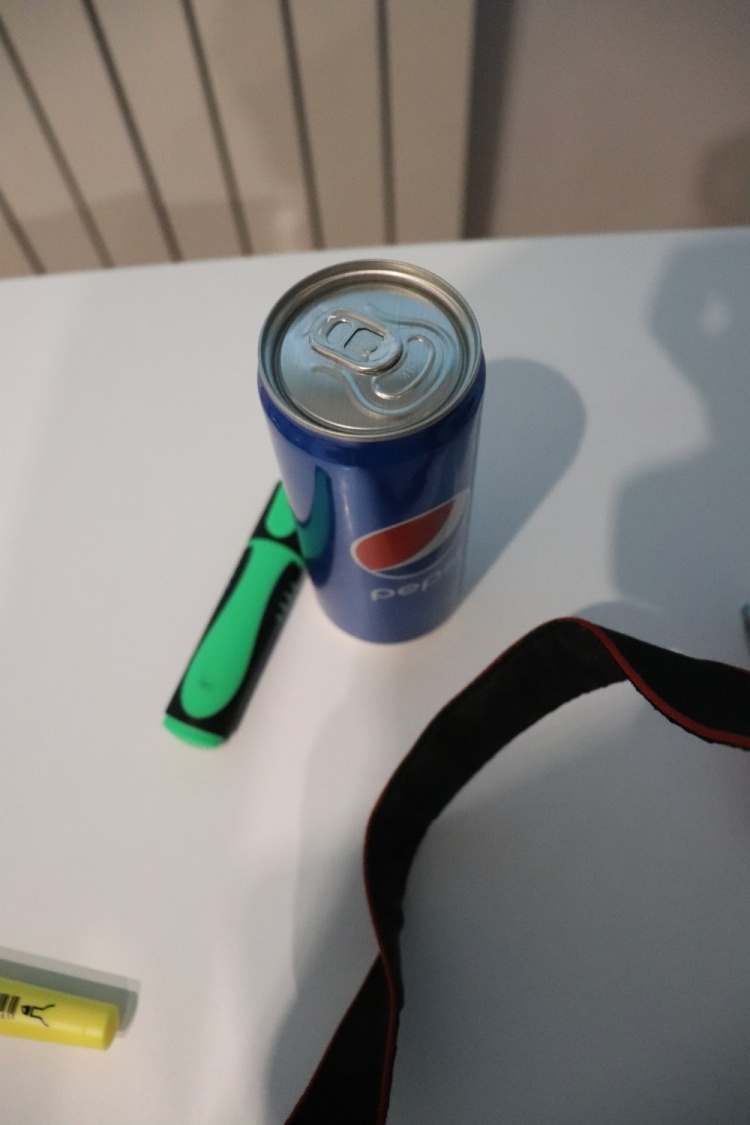pepsi: (252, 256, 494, 648)
